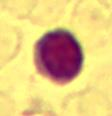lymphocyte: (28, 28, 91, 85)
